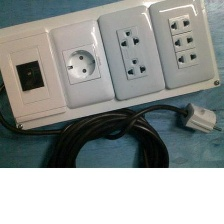three_eye_plug: (94, 3, 166, 103), (149, 0, 216, 87)
